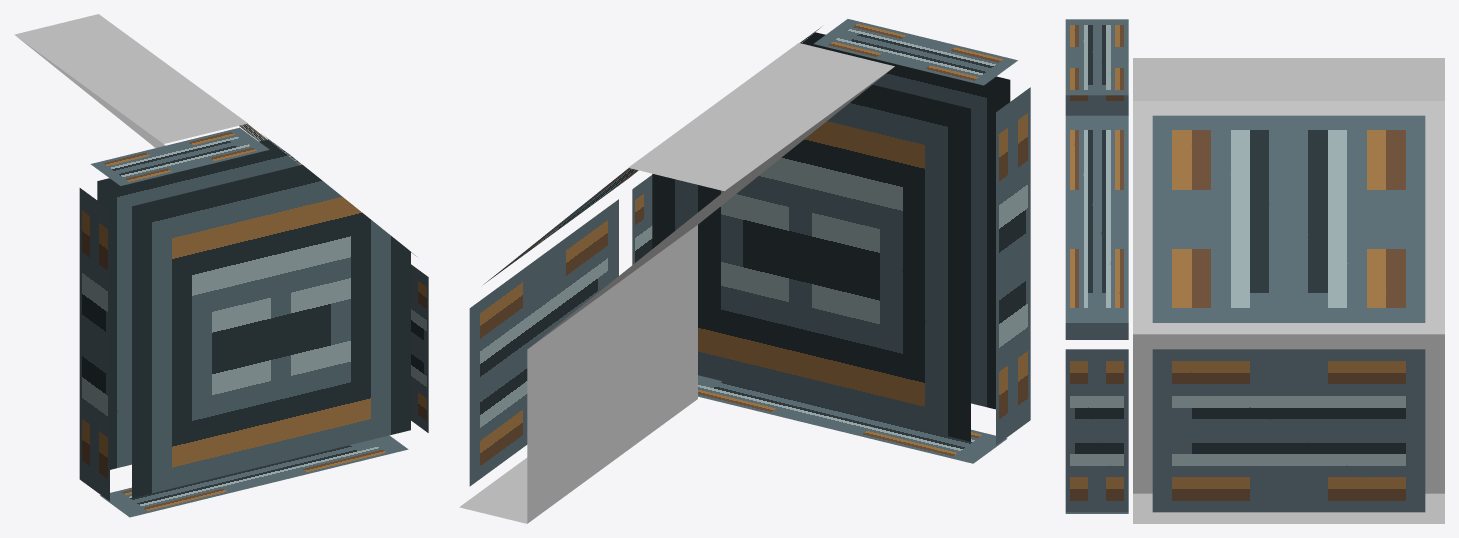
File: casing_d5_rear_x2_y1.obj
3 views of the same model, side by side, from view 1: azimuth 30°, elevation 25°; view 2: azimuth 150°, elevation 25°; view 3: azimuth 270°, elevation 25° (orthographic). The views are drawn at different scales.
Visible parts, largest first — view 1: d5_rear_x2_y1; view 2: d5_rear_x2_y1; view 3: d5_rear_x2_y1.
Part boxes in pixels (left/top/right/bottom): d5_rear_x2_y1: left=14, top=14, right=428, bottom=517; d5_rear_x2_y1: left=459, top=19, right=1030, bottom=523; d5_rear_x2_y1: left=1065, top=19, right=1444, bottom=523.
Size of the model in its own units: 1 by 1 by 1.
